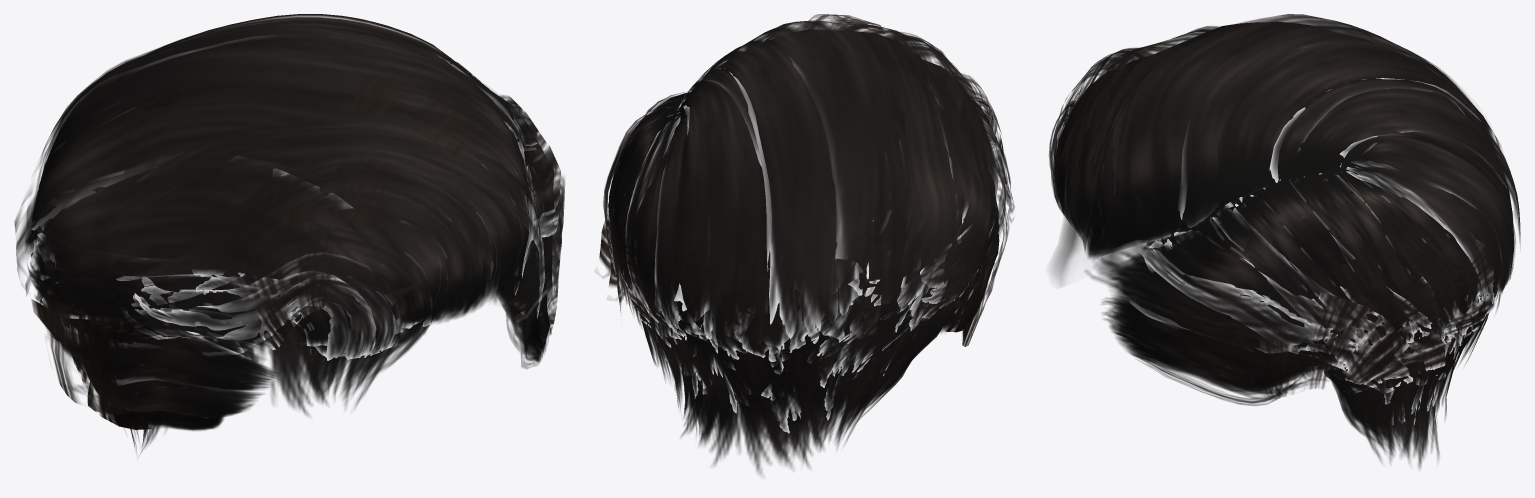
Rendered from diamond_wavy_03 TexturedWavestriis.glb.
3 renders of one model, left to right at view 1: azimuth 30°, elevation 25°; view 2: azimuth 150°, elevation 25°; view 3: azimuth 270°, elevation 25°, orthographic. The views are drawn at different scales.
Parts seen in each view (by area): view 1: MEDIUM-LENGTH SIDE PART.006; view 2: MEDIUM-LENGTH SIDE PART.006; view 3: MEDIUM-LENGTH SIDE PART.006.
Part boxes in pixels (x1=…): MEDIUM-LENGTH SIDE PART.006: x1=14, y1=14, x2=564, y2=455; MEDIUM-LENGTH SIDE PART.006: x1=595, y1=14, x2=1014, y2=474; MEDIUM-LENGTH SIDE PART.006: x1=1049, y1=14, x2=1520, y2=468.
Size of the model in its own units: 0.234 by 0.2313 by 0.2397.
1 material, 1 textured.
